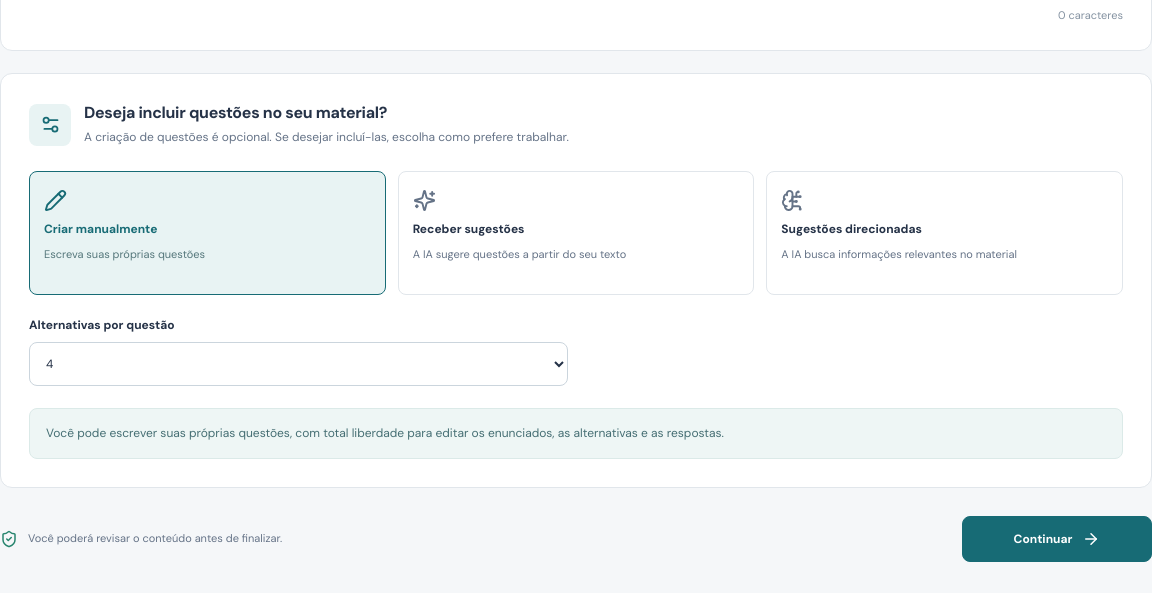
Test: página de preparação do material › não tenta gerar sugestões sem conteúdo
(page scrolled)
Click the button "Receber sugestões A IA sugere questões a partir do seu texto" at [469, 229], box x1=398 y1=171 x2=754 y2=295
(page scrolled)
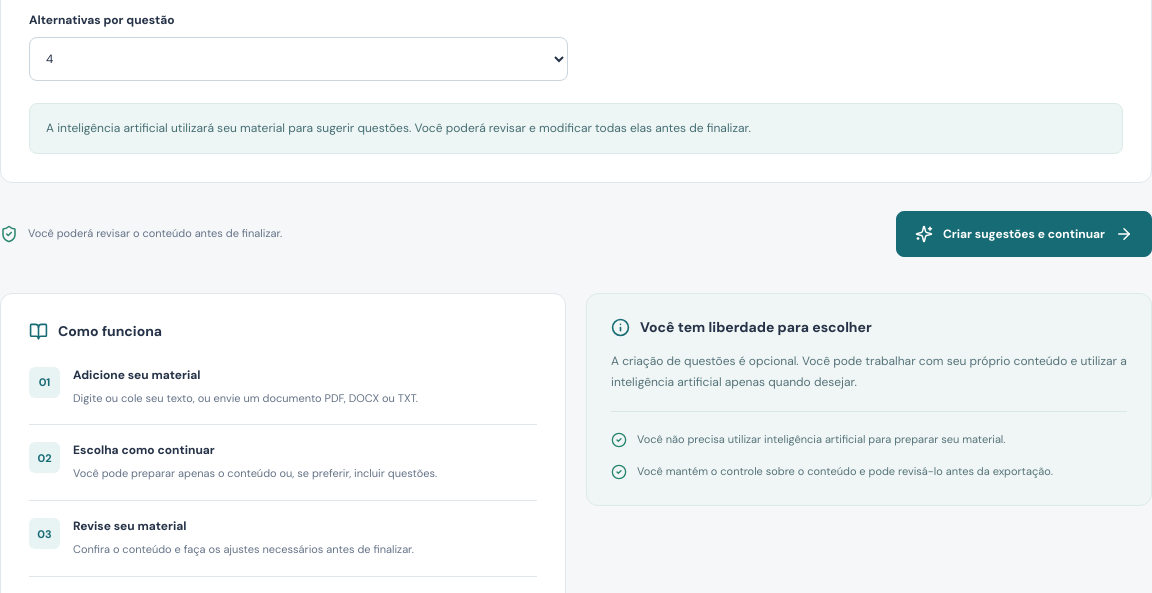
Click the button "Criar sugestões e continuar" at [1024, 234], box x1=896 y1=211 x2=1151 y2=257
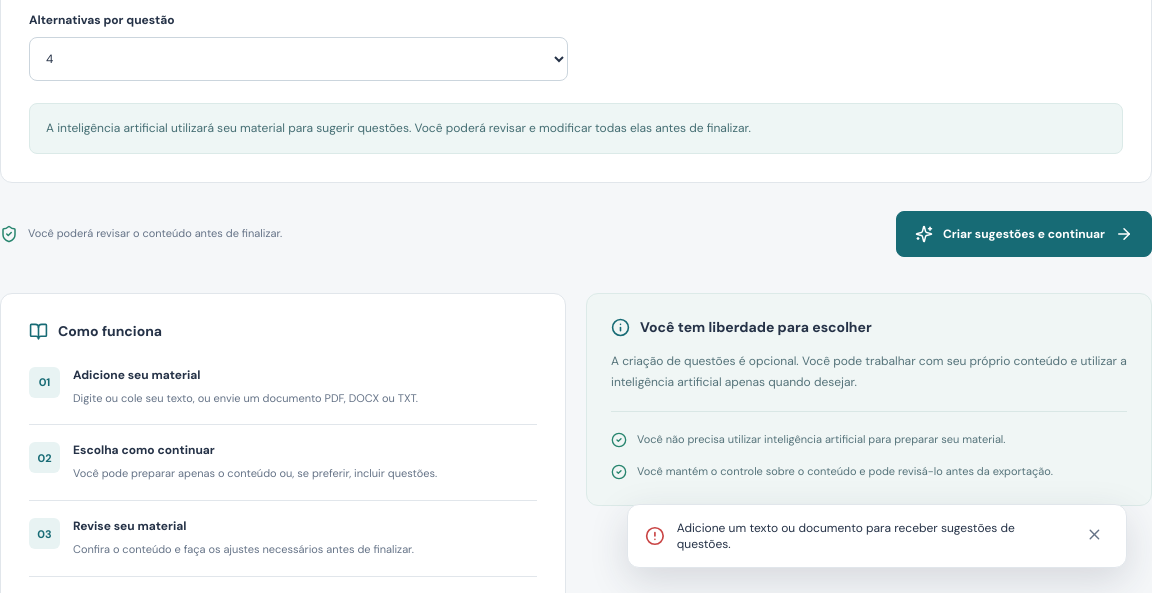
Now the message reads "Adicione um texto ou documento para receber sugestões de questões.", box x1=677 y1=520 x2=1015 y2=552
